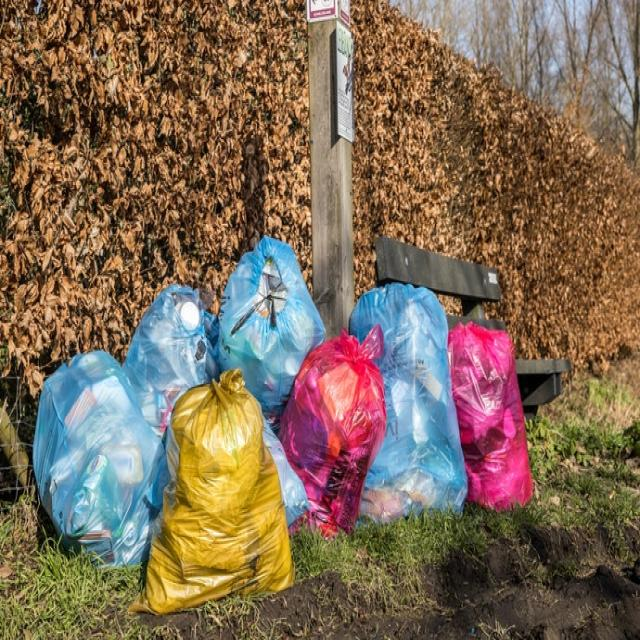sampah-detection: (282, 284, 532, 529), (144, 376, 300, 619), (124, 237, 322, 408), (29, 345, 167, 565)
